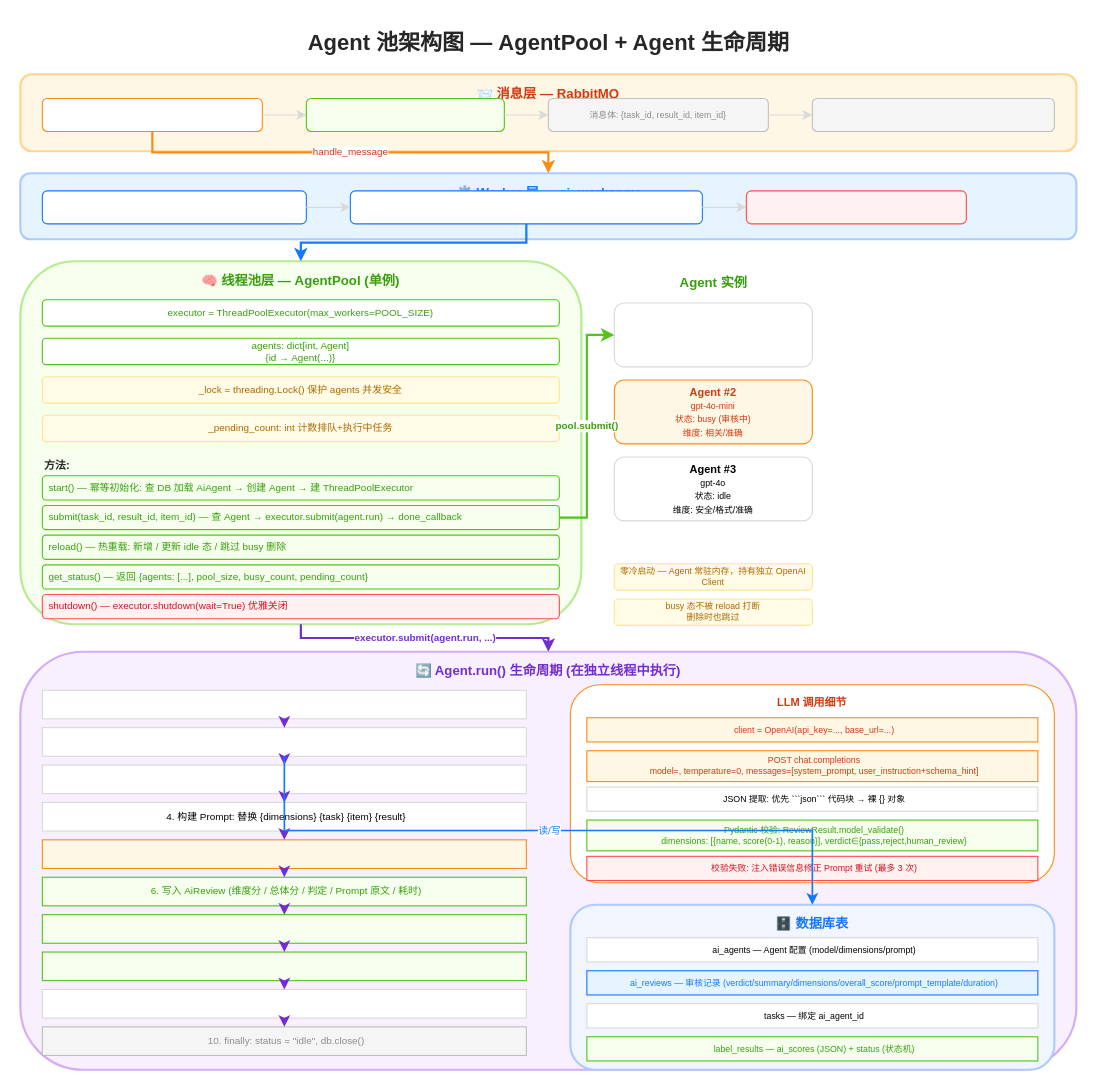
This 1096x1089 diagram has some shape labels left out. Here are the shapes that lost their labels. From the top down, the centre of each, then its label:
(x=151, y=114): labelhub.ai.review (持久化队列)
(x=404, y=114): Publisher: create_result() 检测 ai_agent_id → publish
(x=932, y=114): delivery_mode=2 (持久化) 手动 ACK / NACK+requeue
(x=173, y=207): consume(AI_REVIEW_QUEUE, handle_message) prefetch=1（公平分发）
(x=525, y=207): handle_message(): JSON 解码 → 查 DB 确认 ai_agent_id → pool.submit() → basic_ack()
(x=855, y=207): 连接断线 → 每 5s 重试
(x=712, y=334): Agent #1 gpt-4o 状态: idle 维度: 相关/准确/合规
(x=283, y=704): 1. status = "busy", 记录 start_time
(x=283, y=741): 2. 查 DB: LabelTask + DatasetItem + LabelResult
(x=283, y=779): 3. transit(result → ai_reviewing) + 审计日志 + append_flow
(x=283, y=853): 5. LLM 调用 (最多重试 3 次)
(x=283, y=928): 7. 更新 LabelResult.ai_scores JSON 列
(x=283, y=966): 8. 状态机: verdict==reject → REJECTED / pass|human_review → REVIEW
(x=283, y=1003): 9. 审计日志 (action=ai_reject / ai_to_review) + append_flow
